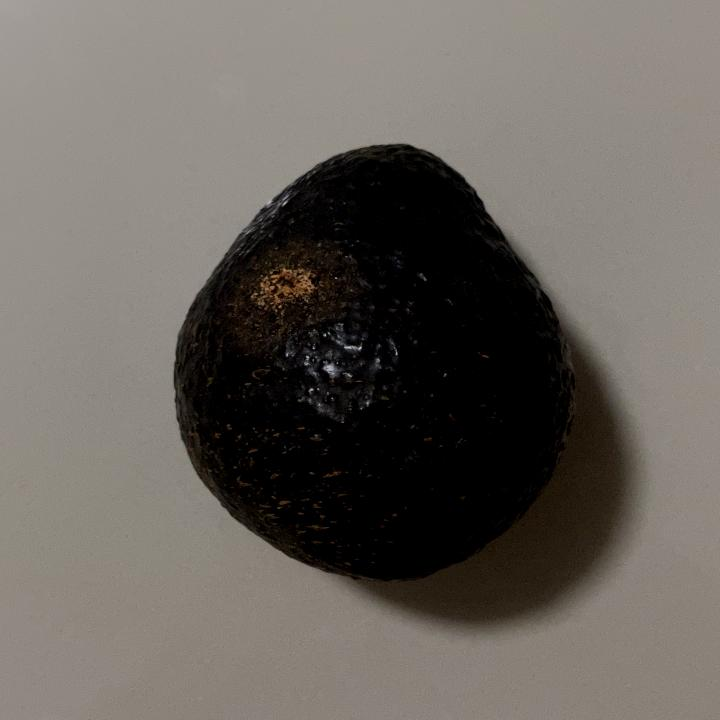Level3: (161, 130, 589, 590)
